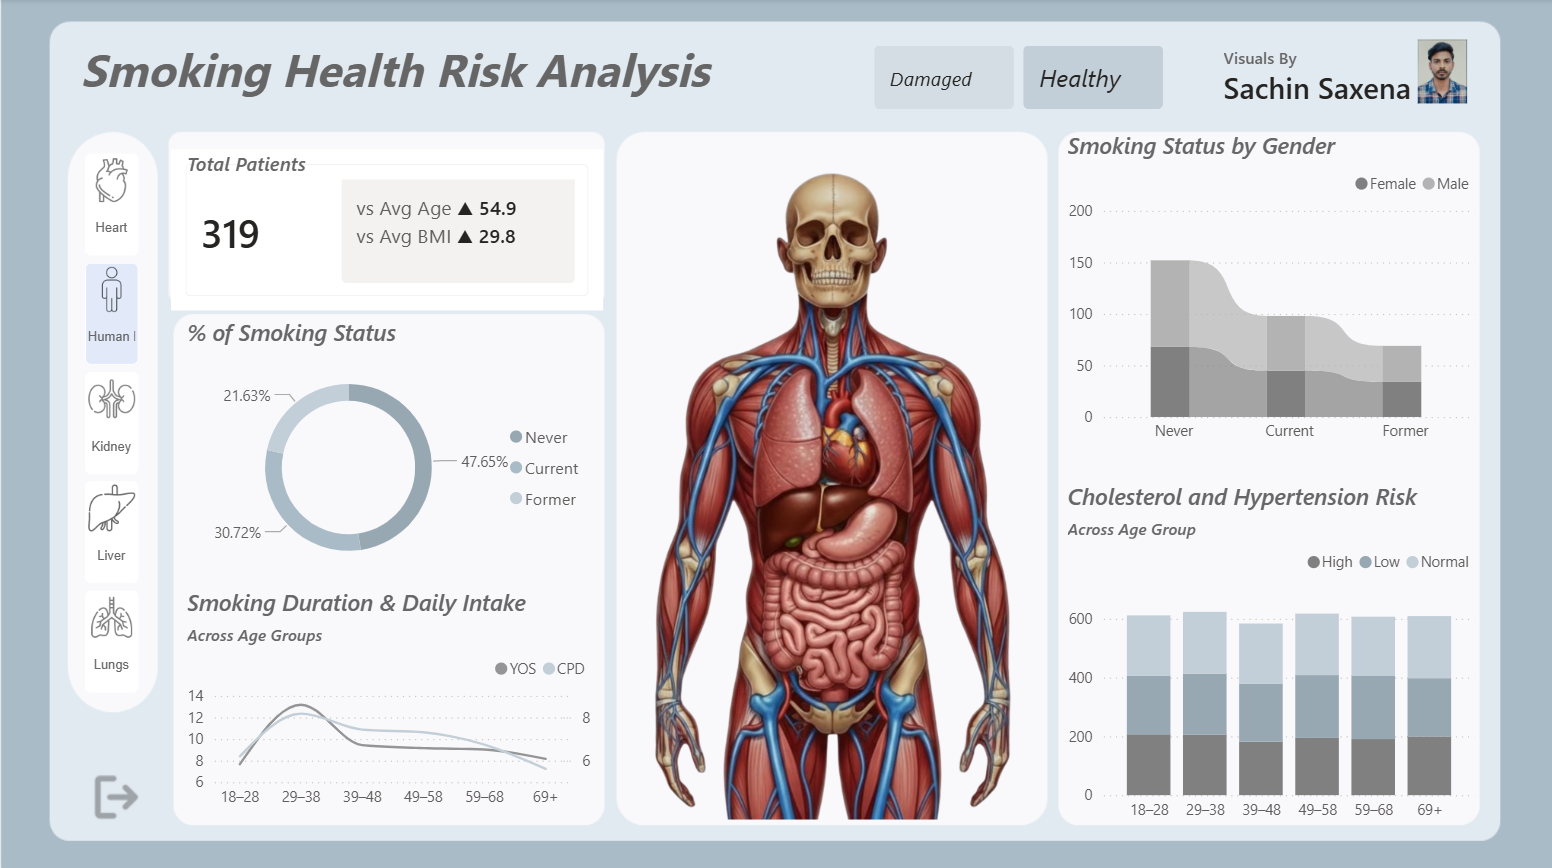

Layout of this report page (visuals, bound fields, positions):
{"tool":"powerbi","page":{"name":"Page 1","canvas":[1280,720],"ordinal":0},"visuals":[{"type":"cardVisual","fields":{"Data":["CountNonNull(health_dataset.Patient_ID)"]},"box":[134.8,118.1,366.4,143.8],"z":0},{"type":"textbox","box":[148.4,118.1,249.8,57.5],"z":1000},{"type":"advancedSlicerVisual","fields":{"Values":["condition.Organ_Condition"]},"box":[714.7,33.3,249.8,62.1],"z":2000},{"type":"image","box":[513.3,118.1,346.8,557.2],"z":3000},{"type":"ChicletSlicer1448559807354","fields":{"Category":["Organs.Organ"],"Image":["Organs.Icon_URL"]},"box":[60.6,118.1,74.2,475.5],"z":4000},{"type":"donutChart","title":"% of Smoking Status","fields":{"Category":["health_dataset.Smoking_Status"],"Y":["CountNonNull(health_dataset.Smoking_Status)"]},"box":[148.4,262,342.2,222.6],"z":5000},{"type":"lineChart","title":"Smoking Duration & Daily Intake","fields":{"Category":["health_dataset.Age Group"],"Y":["Avg(health_dataset.Years_of_Smoking)"],"Y2":["Avg(health_dataset.Cigarettes_Per_Day)"]},"box":[148.4,484.5,342.2,190.8],"z":6000},{"type":"ribbonChart","title":"Smoking Status by Gender","fields":{"Category":["health_dataset.Smoking_Status"],"Y":["CountNonNull(health_dataset.Patient_ID)"],"Series":["health_dataset.Gender"]},"box":[873.7,107.5,345.2,266.5],"z":7000},{"type":"columnChart","title":"Cholesterol and Hypertension Risk","fields":{"Category":["health_dataset.Age Group"],"Y":["Avg(health_dataset.Cholesterol_Level)"],"Series":["health_dataset.BP_Risk"]},"box":[873.7,396.7,345.2,289.2],"z":8000},{"type":"textbox","box":[60.6,27.3,579.9,80.3],"z":9000},{"type":"textbox","box":[1002.4,33.3,277.1,307.4],"z":10000},{"type":"image","box":[1141.7,33.3,90.9,53],"z":11000}]}

Visuals, with their boxes in screenshot pixels (x1, y1, x2, y2), scaled from the page's 1280x720 canvas onto the 1552x868 screenshot:
cardVisual - CountNonNull(health_dataset.Patient_ID): x1=163, y1=142, x2=608, y2=316
textbox: x1=180, y1=142, x2=483, y2=212
advancedSlicerVisual - condition.Organ_Condition: x1=867, y1=40, x2=1169, y2=115
image: x1=622, y1=142, x2=1043, y2=814
ChicletSlicer1448559807354 - Organs.Organ x Organs.Icon_URL: x1=73, y1=142, x2=163, y2=716
"% of Smoking Status" donutChart: x1=180, y1=316, x2=595, y2=584
"Smoking Duration & Daily Intake" lineChart: x1=180, y1=584, x2=595, y2=814
"Smoking Status by Gender" ribbonChart: x1=1059, y1=130, x2=1478, y2=451
"Cholesterol and Hypertension Risk" columnChart: x1=1059, y1=478, x2=1478, y2=827
textbox: x1=73, y1=33, x2=777, y2=130
textbox: x1=1215, y1=40, x2=1551, y2=411
image: x1=1384, y1=40, x2=1495, y2=104
